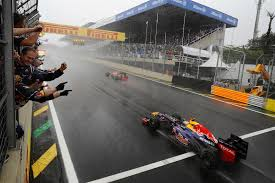FormulaOneCar: (136, 106, 253, 171)
